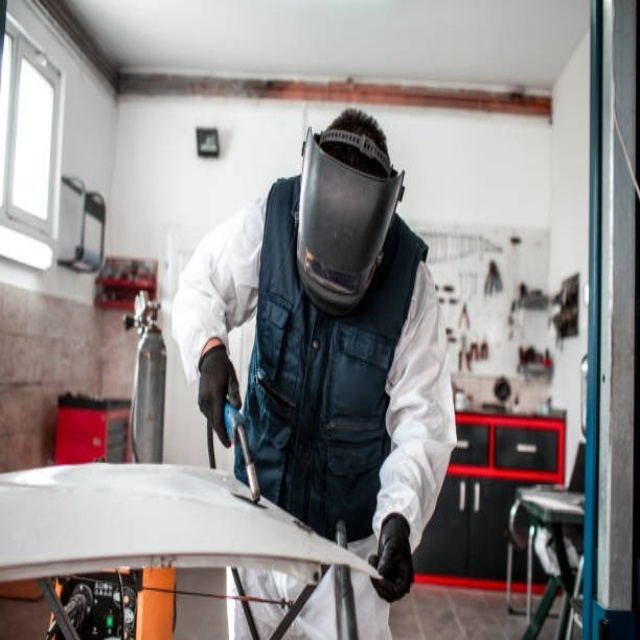Guantes: (198, 343, 241, 448), (370, 513, 414, 602)
